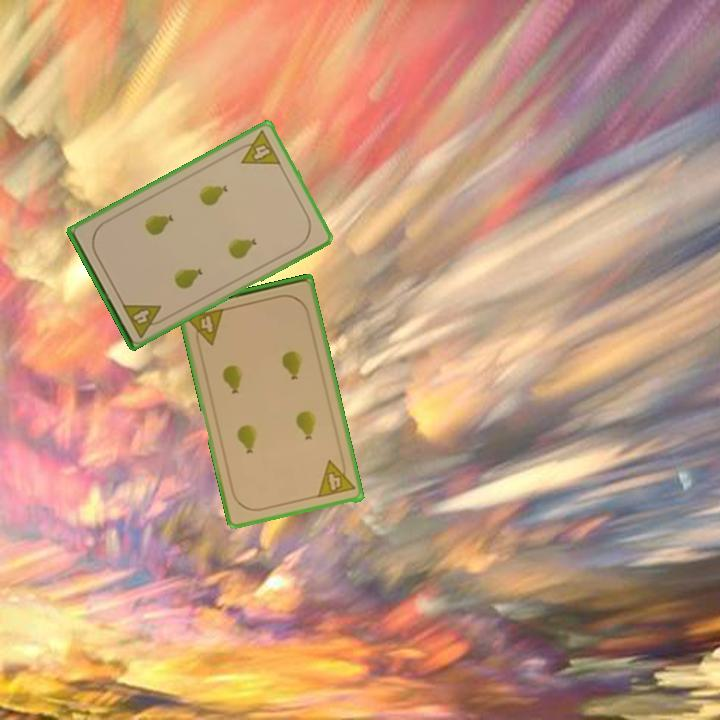4p: (231, 127, 284, 168), (183, 305, 228, 350), (314, 455, 358, 501), (119, 300, 169, 340)
